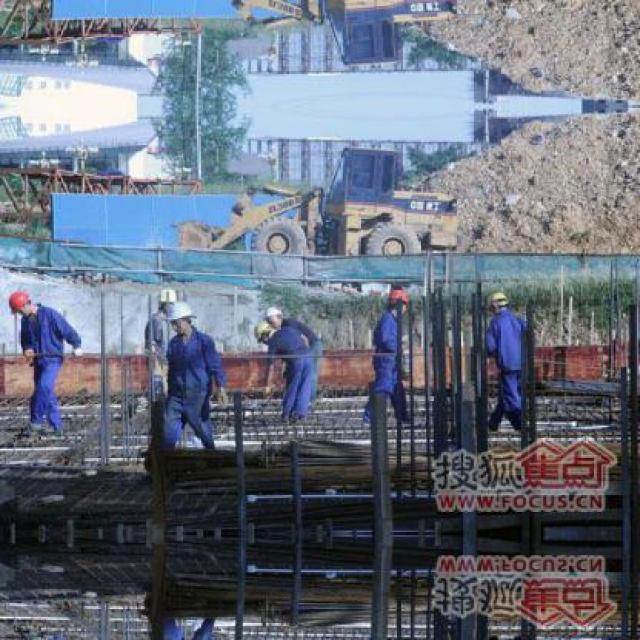Helmet: (167, 302, 196, 335), (385, 285, 409, 315), (154, 287, 178, 316), (8, 292, 32, 316), (484, 288, 508, 312), (252, 322, 276, 344), (264, 306, 282, 326)
